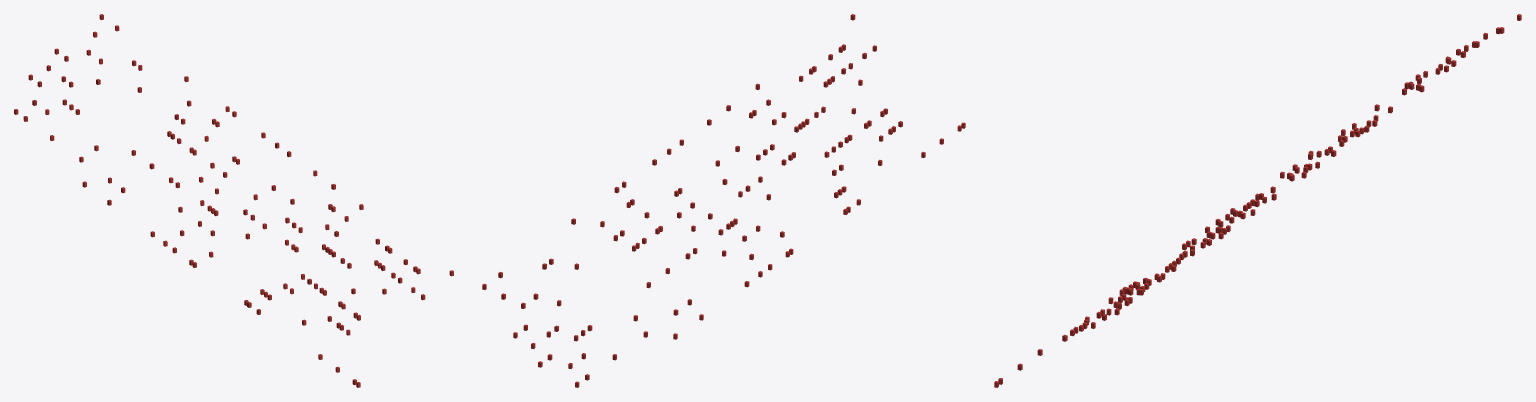
The model's file is CrowdW_CrowdRed.fbx.
3 renders of one model, left to right at view 1: azimuth 30°, elevation 25°; view 2: azimuth 150°, elevation 25°; view 3: azimuth 330°, elevation 25°, orthographic. The views are drawn at different scales.
Parts seen in each view (by area): view 1: FanW0.001; view 2: FanW0.001; view 3: FanW0.001.
Part boxes in pixels (x1,y1,x2,y2): FanW0.001: (14,14,453,387); FanW0.001: (482,14,965,387); FanW0.001: (994,14,1521,387).
Bounding box in the file's own units: 4126 × 3370 × 25603.
